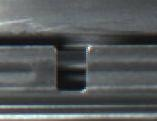oneu: (42, 42, 99, 98)
